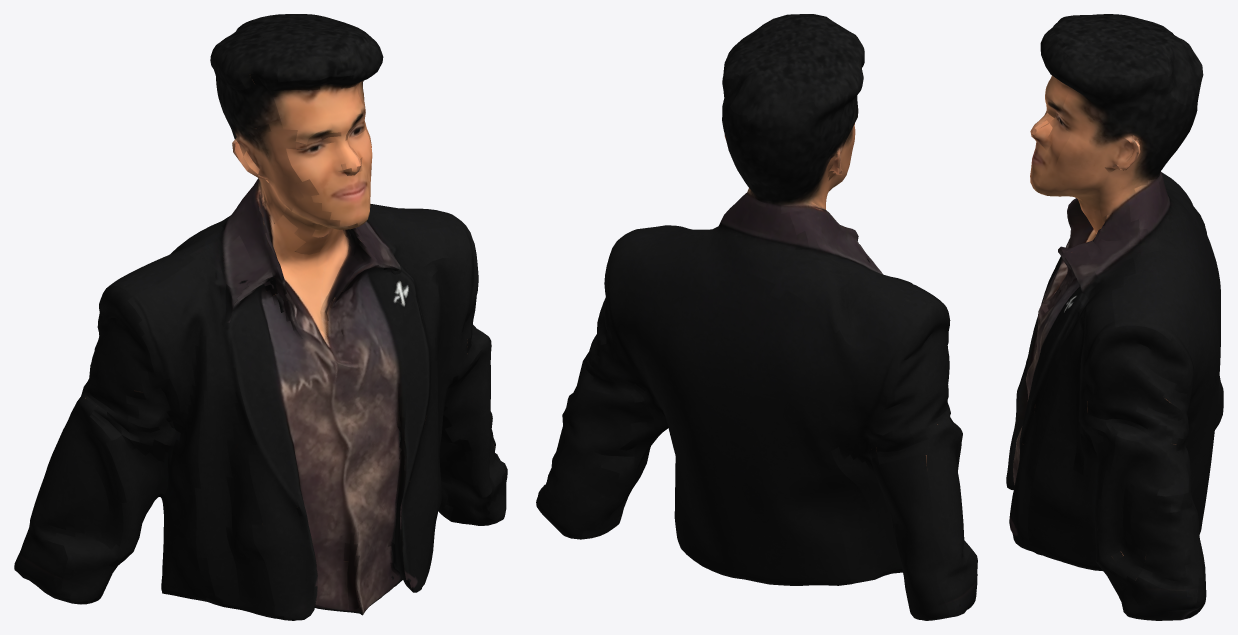
The model's file is character.glb.
The picture shows the model from 3 angles, left to right: view 1: azimuth 30°, elevation 25°; view 2: azimuth 150°, elevation 25°; view 3: azimuth 270°, elevation 25°; orthographic projection. The views are drawn at different scales.
Parts seen in each view (by area): view 1: Mesh0; view 2: Mesh0; view 3: Mesh0.
Part boxes in pixels (x1=…): Mesh0: x1=14, y1=14, x2=507, y2=620; Mesh0: x1=536, y1=14, x2=977, y2=620; Mesh0: x1=1006, y1=14, x2=1223, y2=620.
Size of the model in its own units: 1.68 by 1.9 by 0.7482.
1 material, 1 textured.
